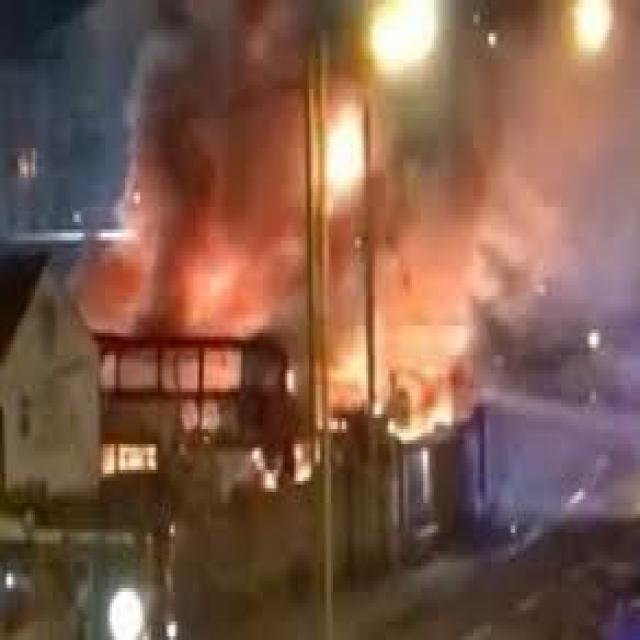fire: (154, 197, 449, 374)
smoke: (87, 0, 323, 204)
